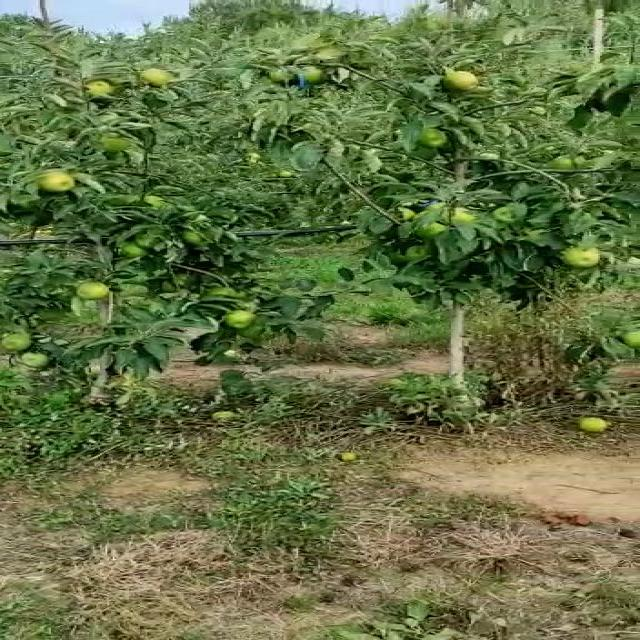100-_ripeness: (562, 246, 604, 269), (29, 171, 75, 191), (186, 228, 223, 248), (142, 67, 174, 90), (385, 249, 431, 265), (269, 64, 296, 88), (76, 281, 111, 299), (553, 152, 582, 173), (440, 210, 478, 226), (16, 353, 49, 371), (78, 82, 120, 96), (444, 72, 474, 91), (387, 208, 420, 225), (298, 67, 331, 84), (418, 222, 447, 241), (2, 333, 33, 349), (222, 312, 251, 329), (418, 131, 449, 146), (118, 246, 147, 260)
